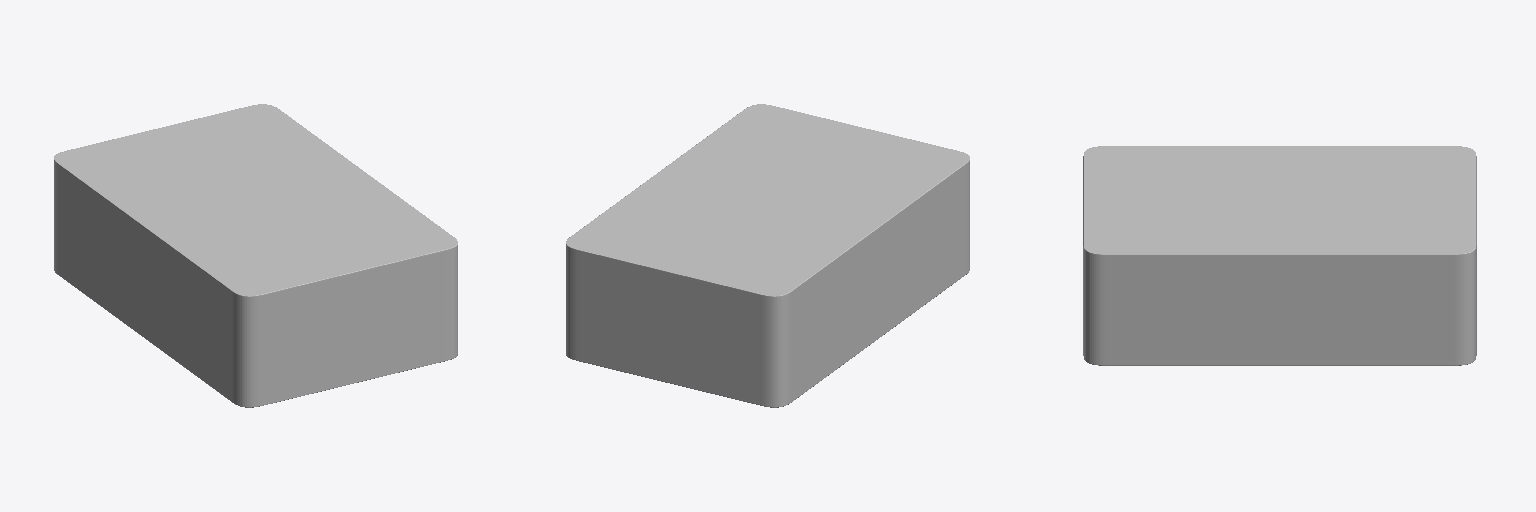
The model's file is mojong.obj.
3 views of the same model, side by side, from view 1: azimuth 30°, elevation 25°; view 2: azimuth 150°, elevation 25°; view 3: azimuth 270°, elevation 25° (orthographic).
Visible parts, largest first — view 1: Cube; view 2: Cube; view 3: Cube.
Part boxes in pixels (x1,y1,x2,y2): Cube: (54, 104, 457, 407); Cube: (566, 104, 969, 407); Cube: (1083, 146, 1476, 365).
Size of the model in its own units: 2.12 by 1.02 by 3.26.